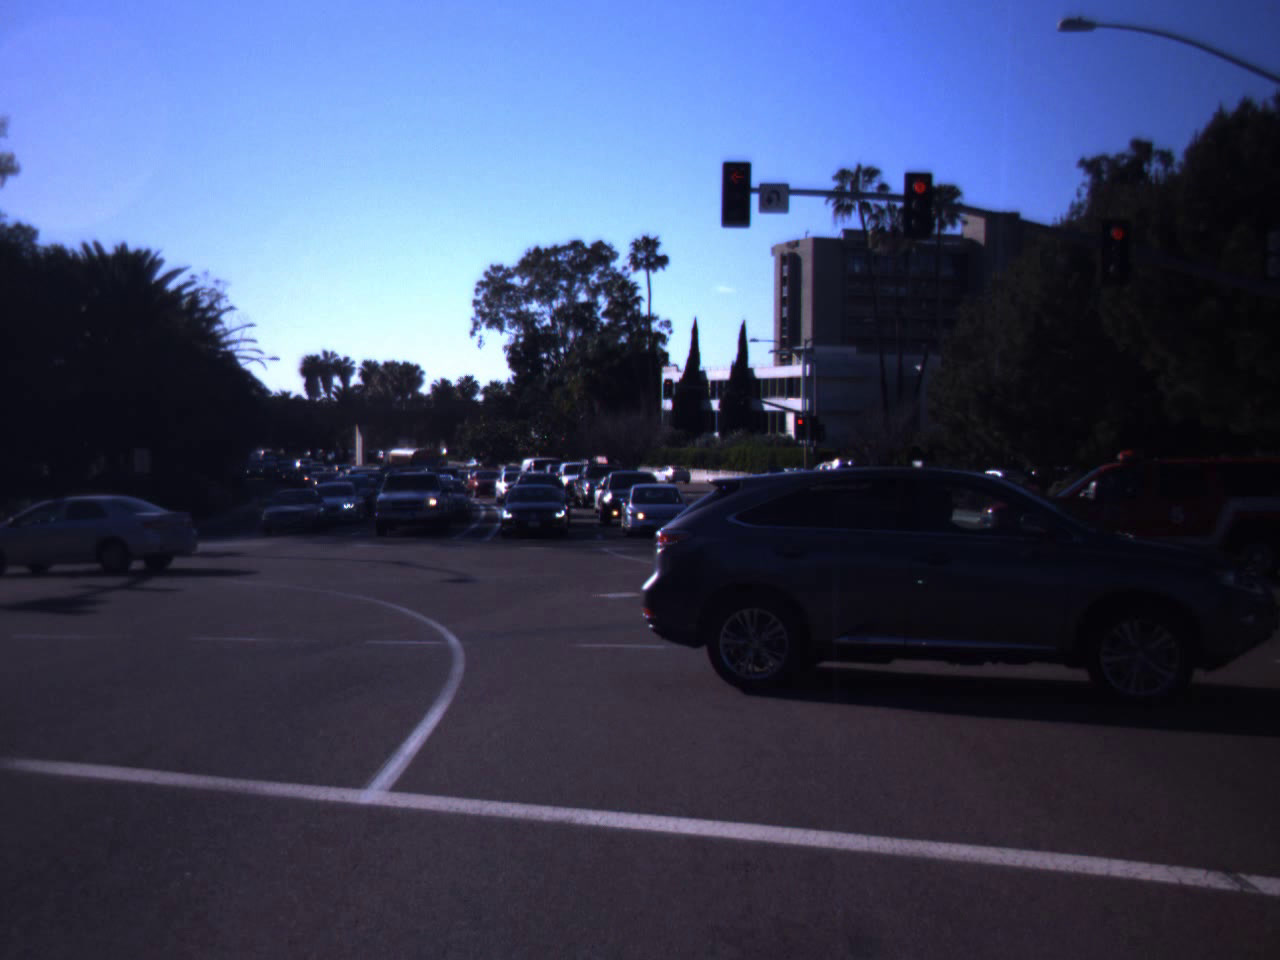stop: (711, 162, 765, 225), (1096, 220, 1138, 278), (900, 175, 939, 224)
